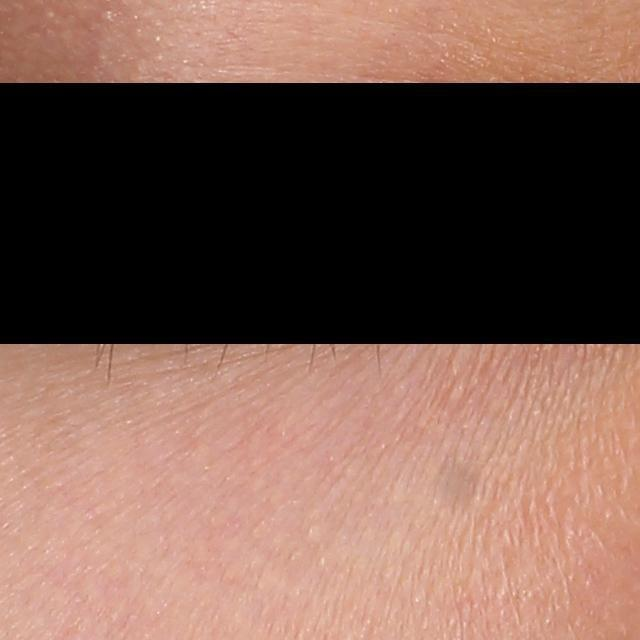other: (427, 452, 492, 520)
